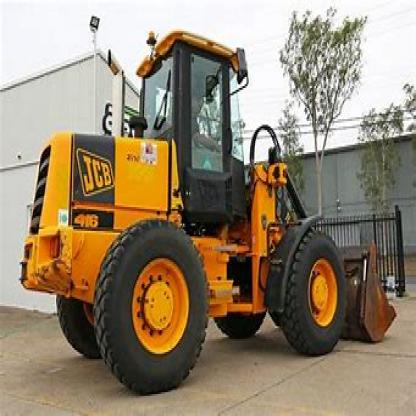bull_dozer/loader/grader: (10, 16, 402, 396)
